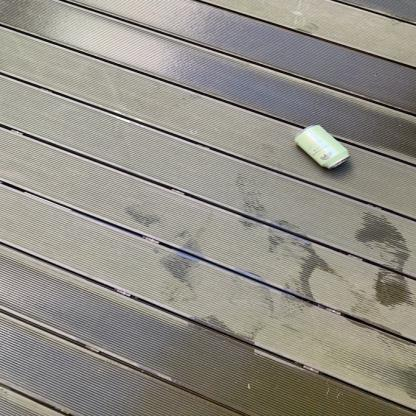trash: (290, 124, 352, 174)
